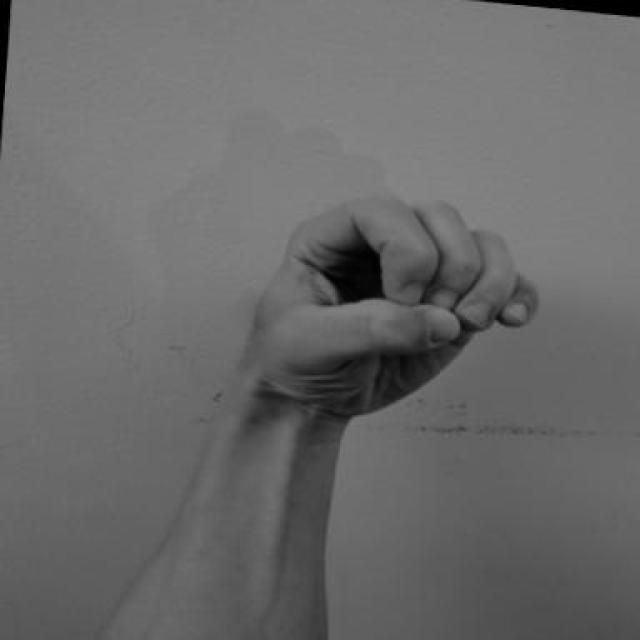O: (235, 177, 553, 440)
